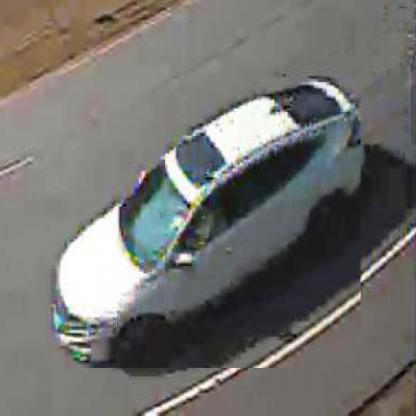car: (45, 78, 362, 371)
